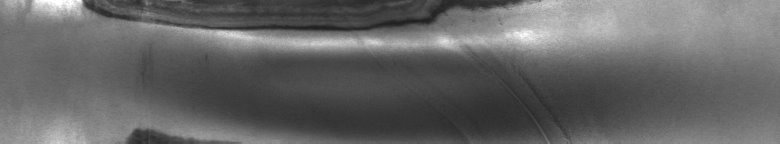ke: (16, 4, 605, 136)
